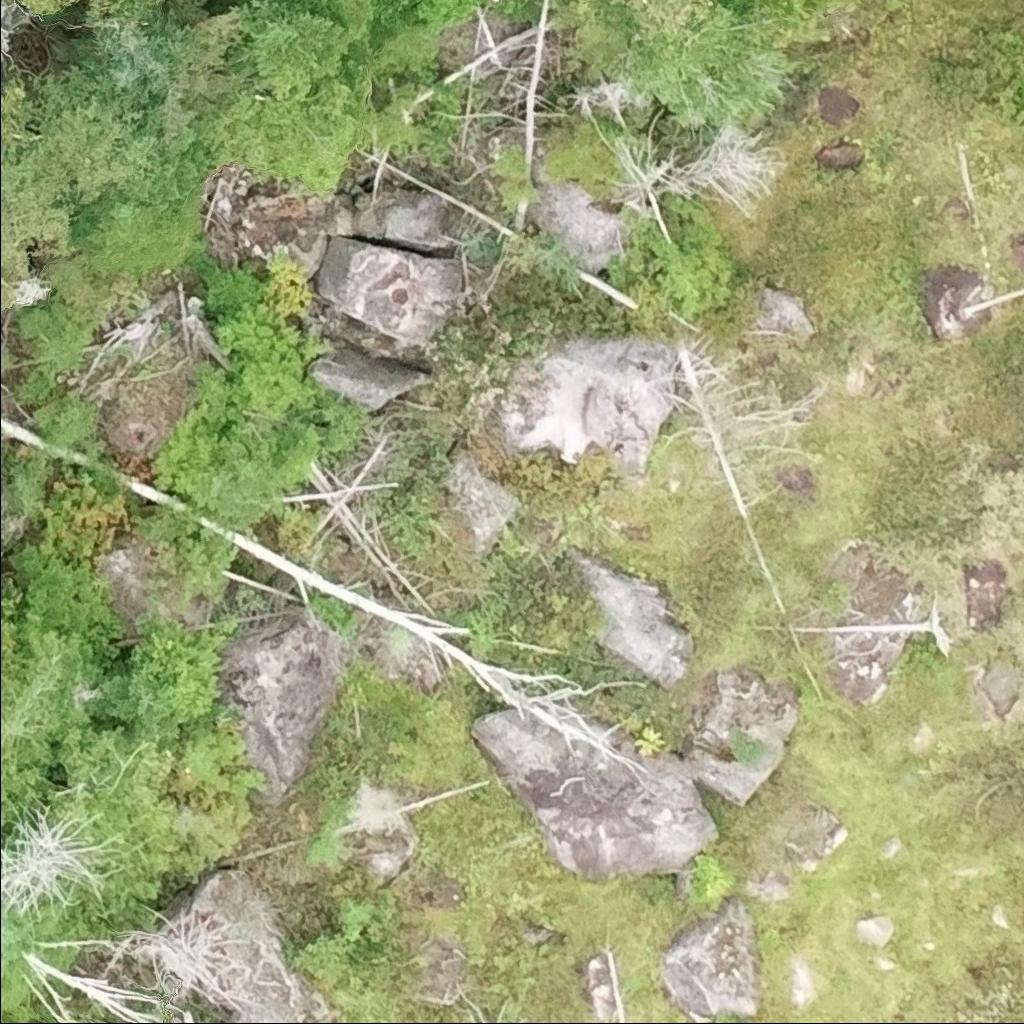crown: (542, 0, 715, 58)
